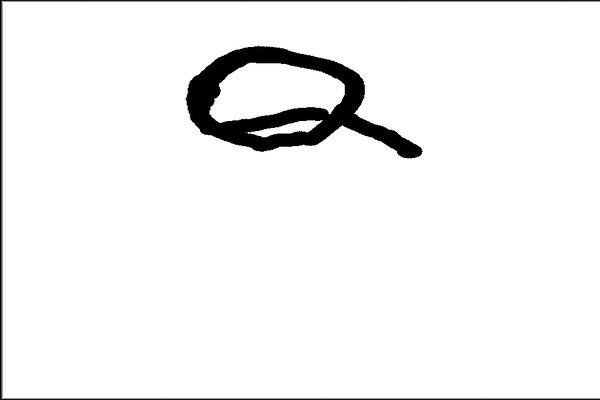Q: (177, 35, 429, 179)
